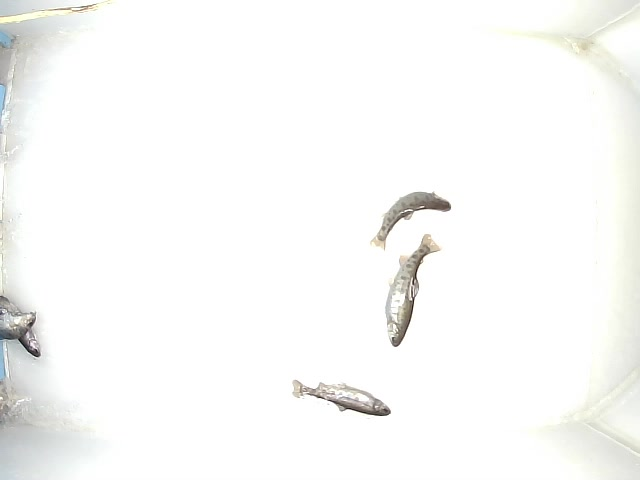fish: (385, 231, 441, 348), (369, 189, 454, 252), (290, 377, 393, 419)
